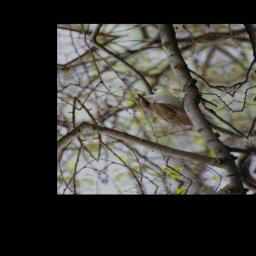Cuckoo: (137, 80, 249, 155)
